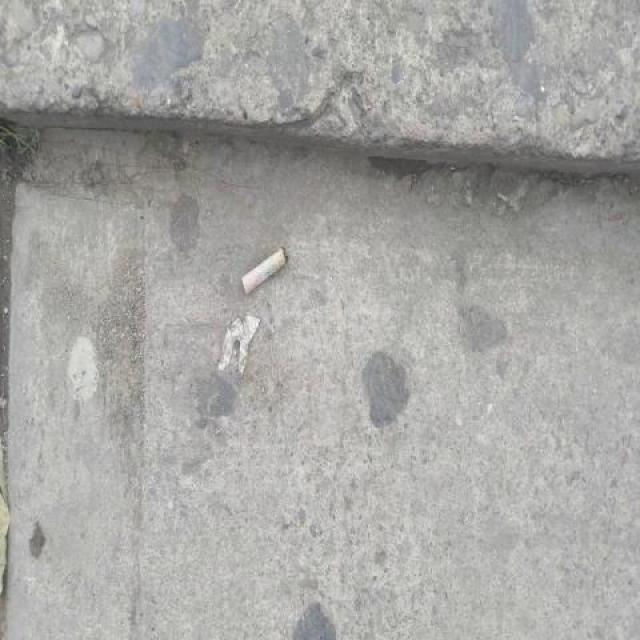non-organic waste: (236, 240, 292, 299)
